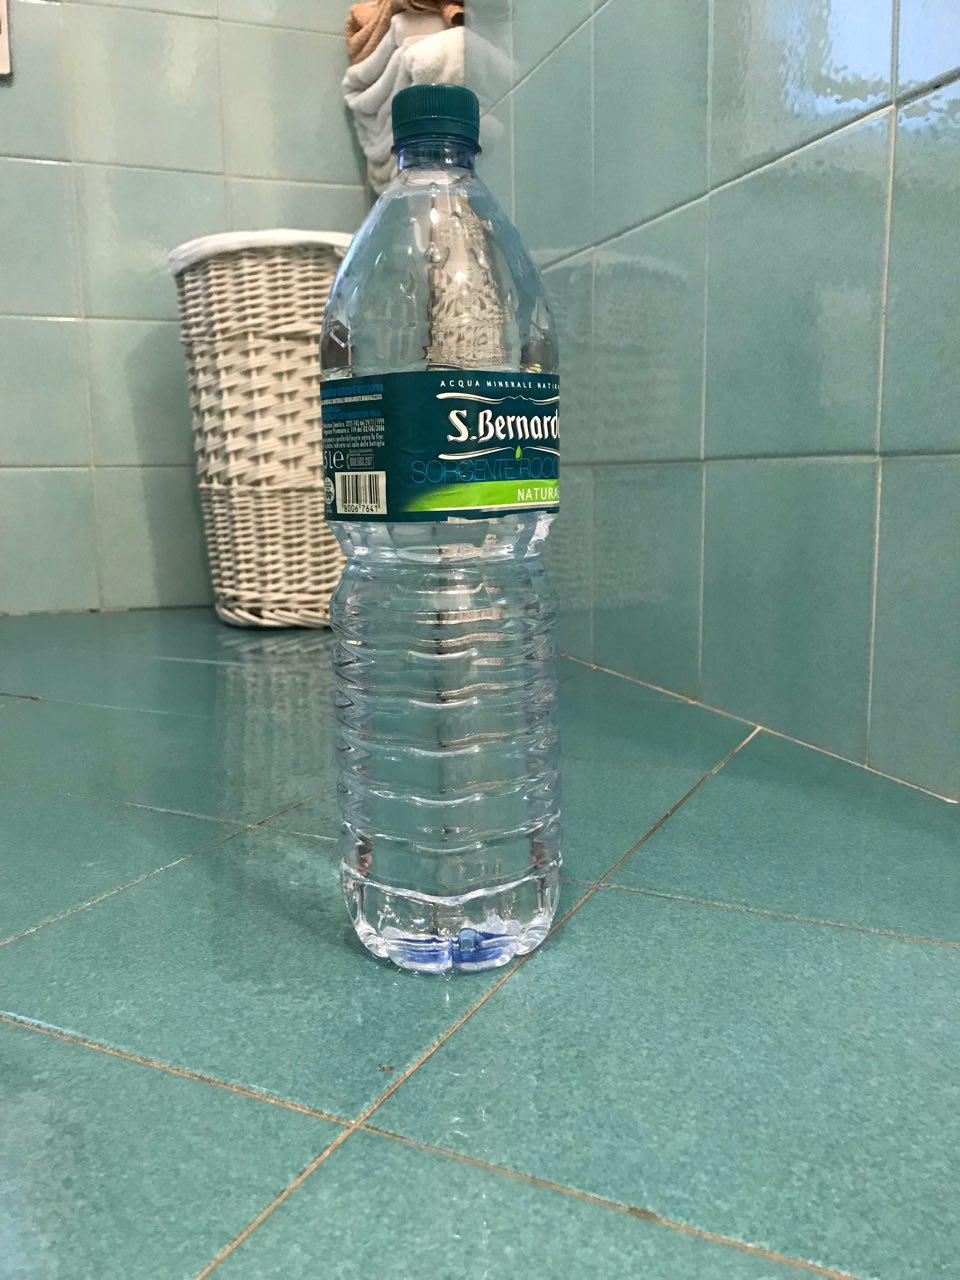san_bernardo: (318, 82, 564, 973)
